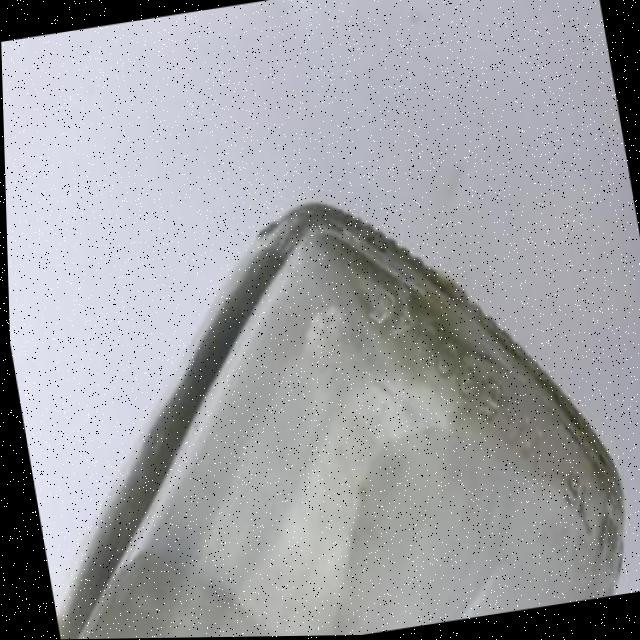glass: (4, 157, 640, 640)
